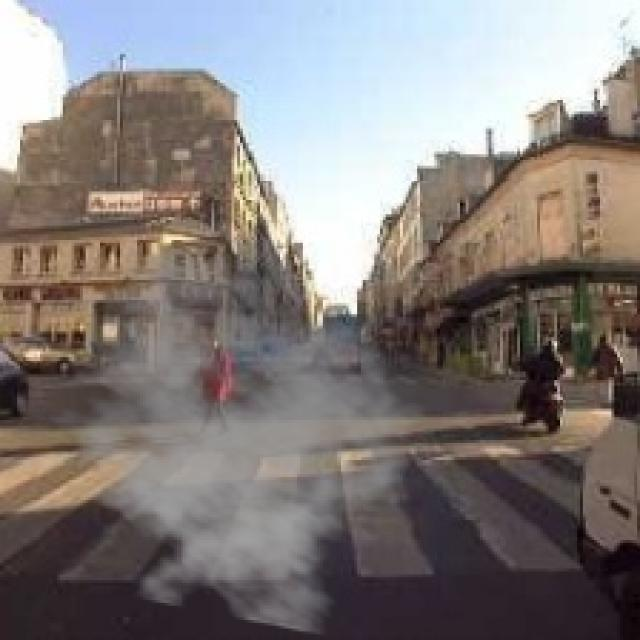smoke: (31, 246, 432, 637)
